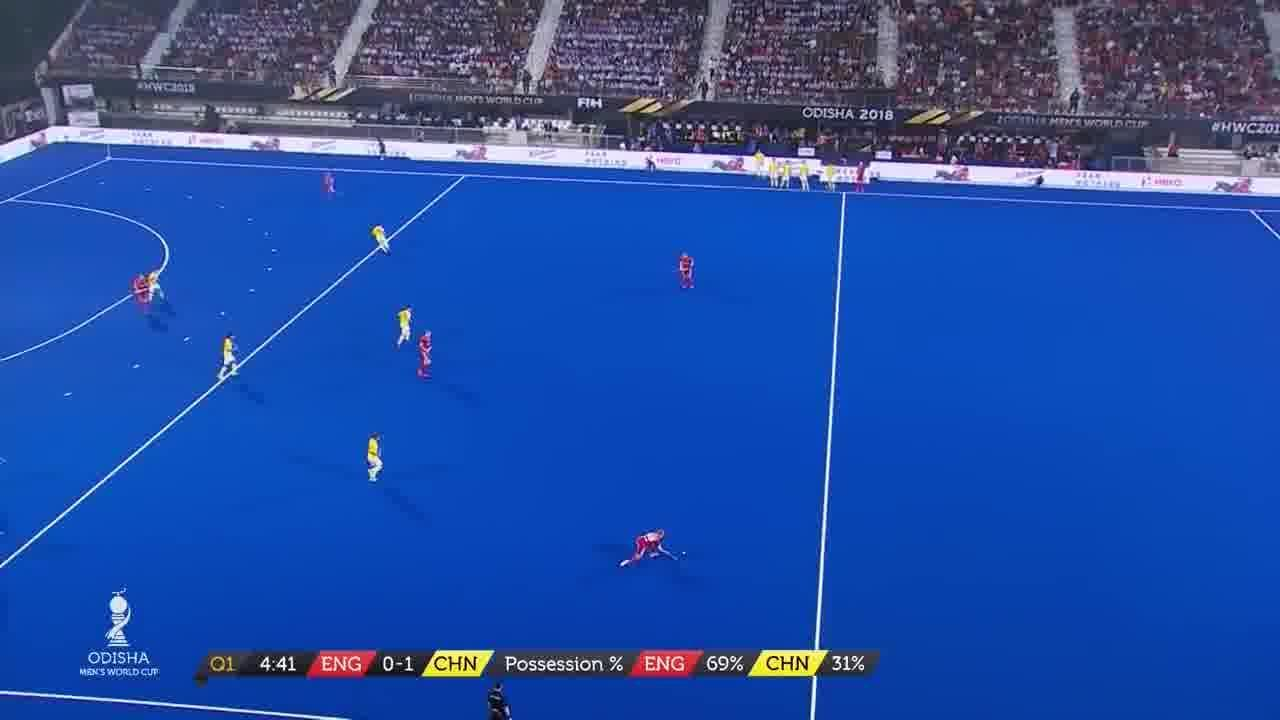ball: (677, 543, 691, 561)
